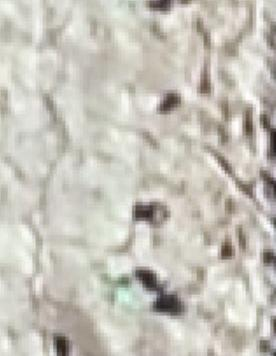cotton: (112, 279, 144, 310)
